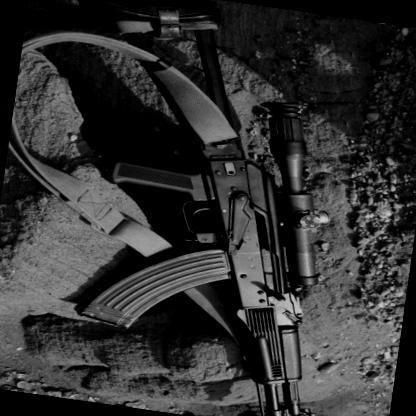rifle: (58, 0, 371, 416)
